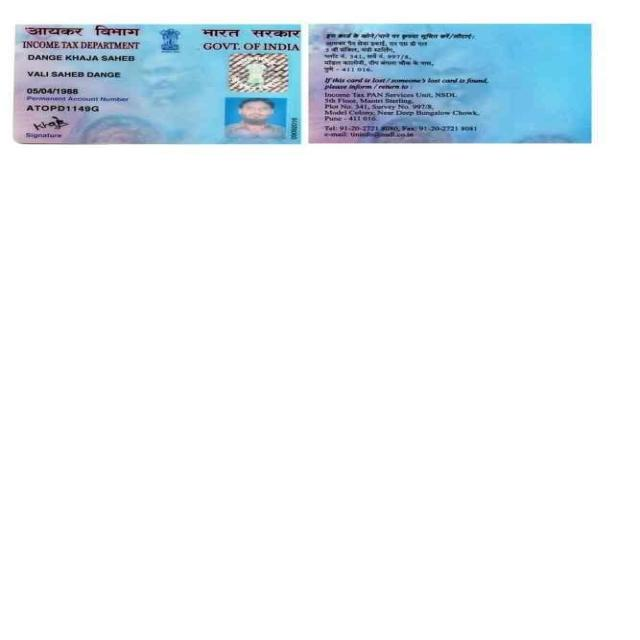pan_card: (12, 23, 303, 145), (308, 25, 592, 145)
